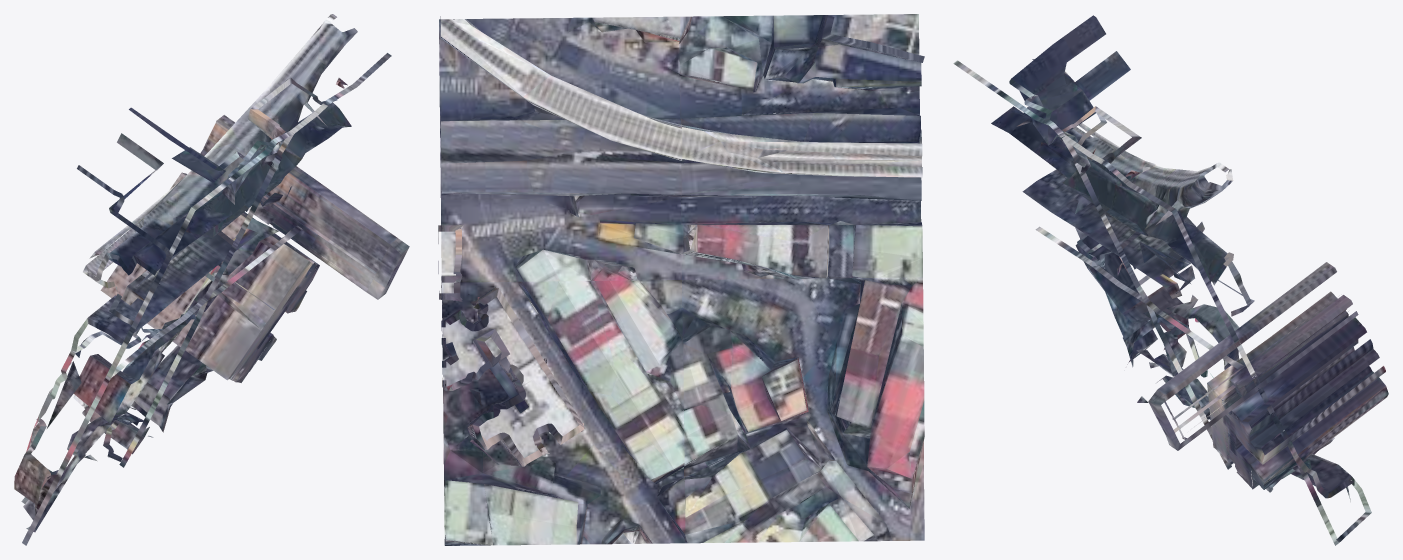
3 renders of one model, left to right at view 1: azimuth 30°, elevation 25°; view 2: azimuth 150°, elevation 25°; view 3: azimuth 270°, elevation 25°, orthographic. The views are drawn at different scales.
Bounding box in the file's own units: 156 × 156 × 145.
2 materials, 2 textured.
